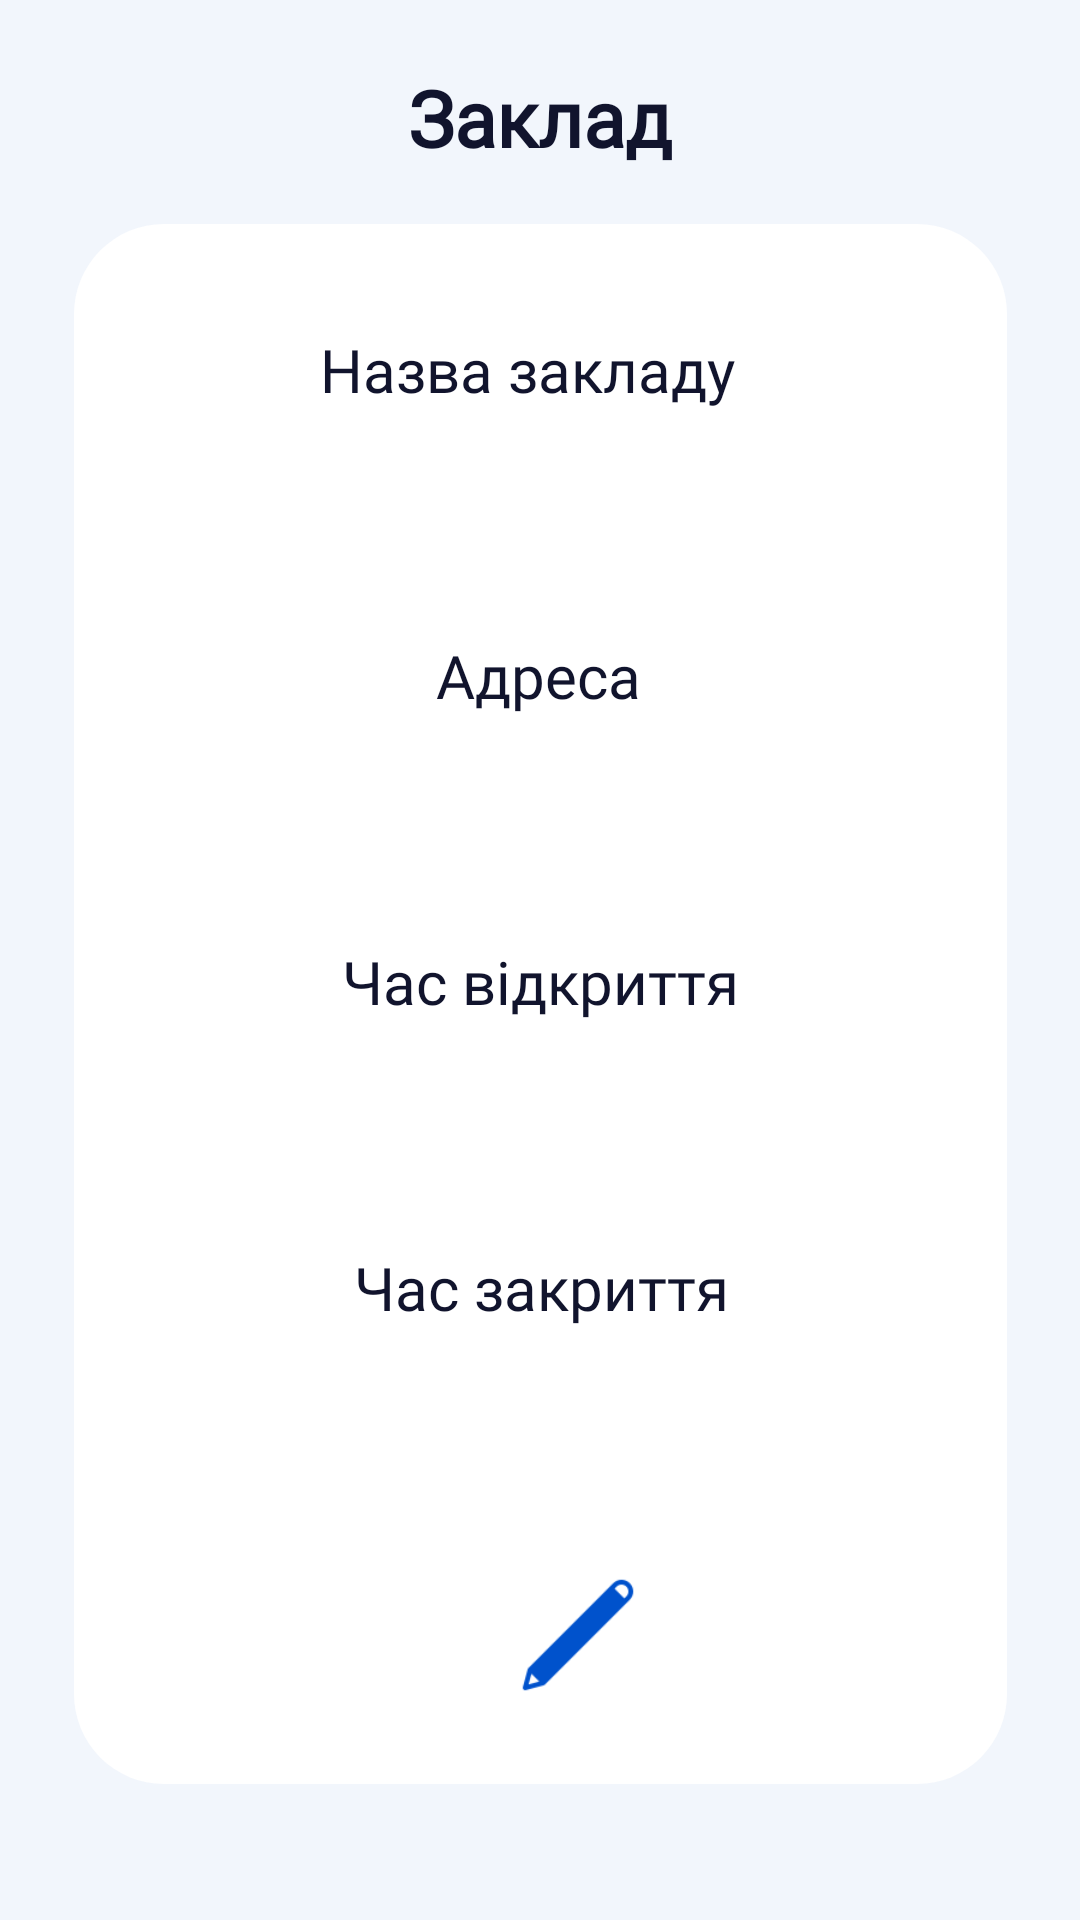

Screen size 1080x1920. Icon name, then its box in pixels as (x1, y1, x2, y2):
edit place: (522, 1579, 634, 1691)
